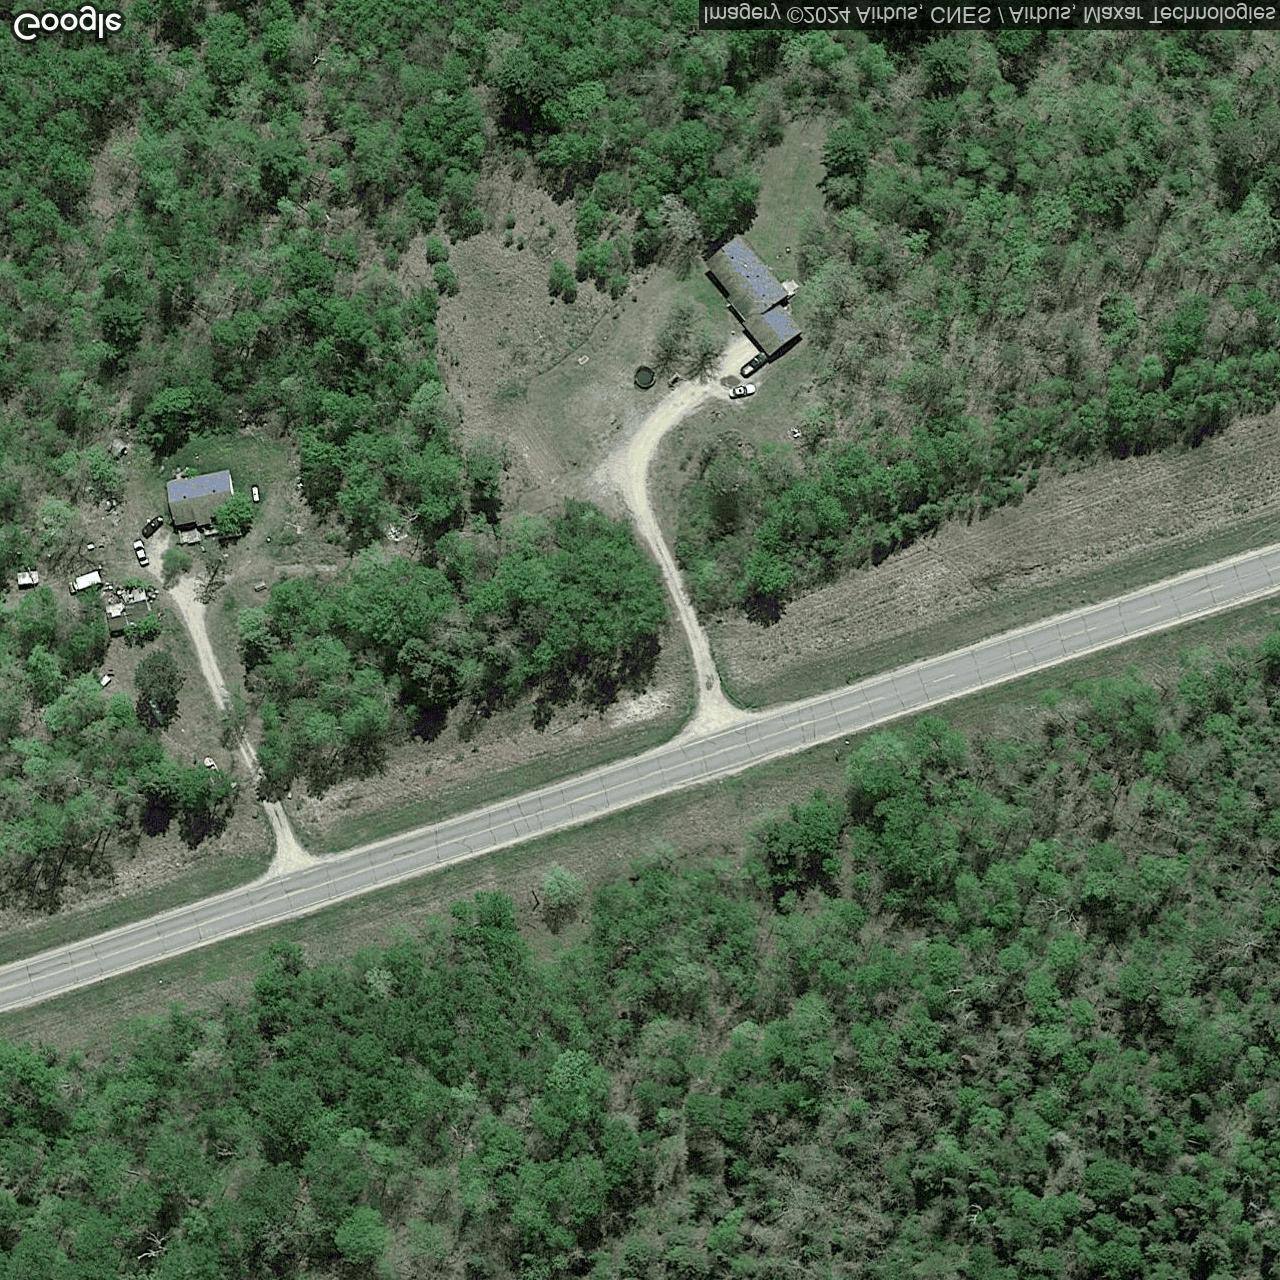House: (701, 232, 806, 359), (164, 468, 240, 527)
Propane: (248, 483, 264, 505)
